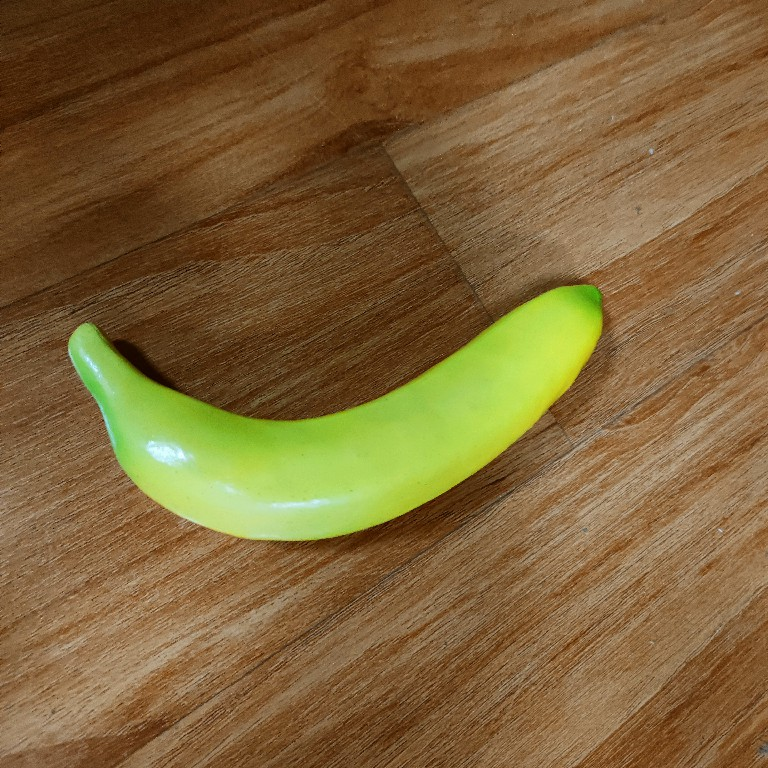fruit_banana: (63, 279, 608, 549)
